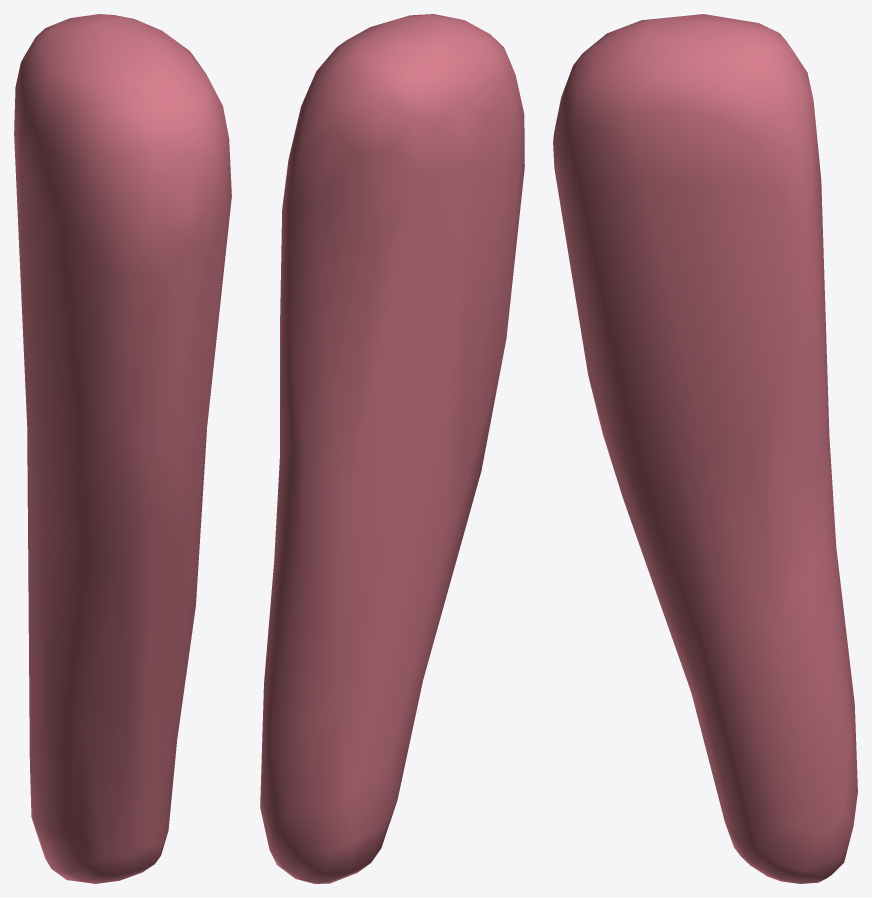
Rendered from Lacrimal_sac_left.glb.
The picture shows the model from 3 angles, left to right: view 1: azimuth 30°, elevation 25°; view 2: azimuth 150°, elevation 25°; view 3: azimuth 270°, elevation 25°; orthographic projection. The views are drawn at different scales.
Visible parts, largest first — view 1: Lacrimal_sac.l_grp1.074; view 2: Lacrimal_sac.l_grp1.074; view 3: Lacrimal_sac.l_grp1.074.
Boxes of the visible parts, x1,y1,x2,y2 form: Lacrimal_sac.l_grp1.074: (14,14,231,883); Lacrimal_sac.l_grp1.074: (260,14,524,883); Lacrimal_sac.l_grp1.074: (553,14,857,883).
Size of the model in its own units: 0.004 by 0.0184 by 0.0061.
